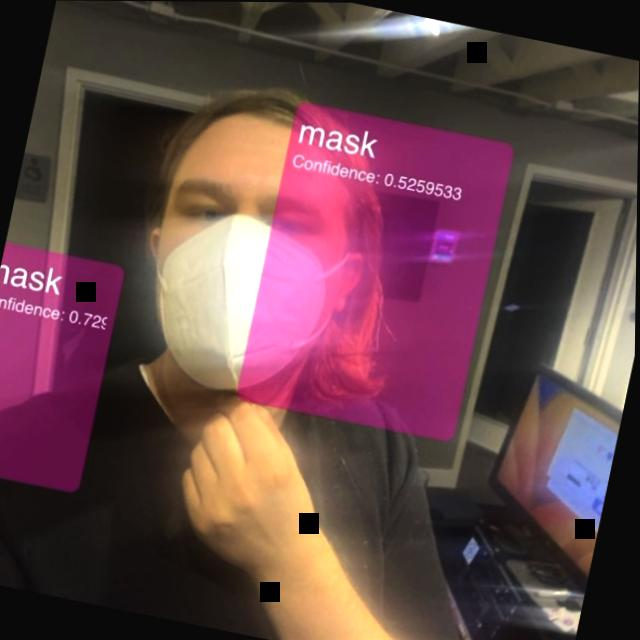Mask: (114, 32, 455, 433)
